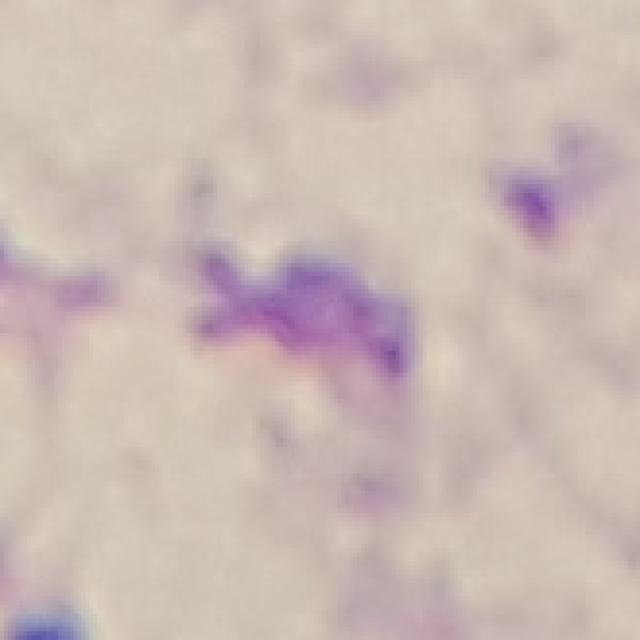non-sperm: (192, 235, 419, 378)
